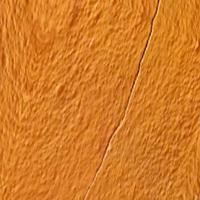crack: (95, 0, 165, 197)
